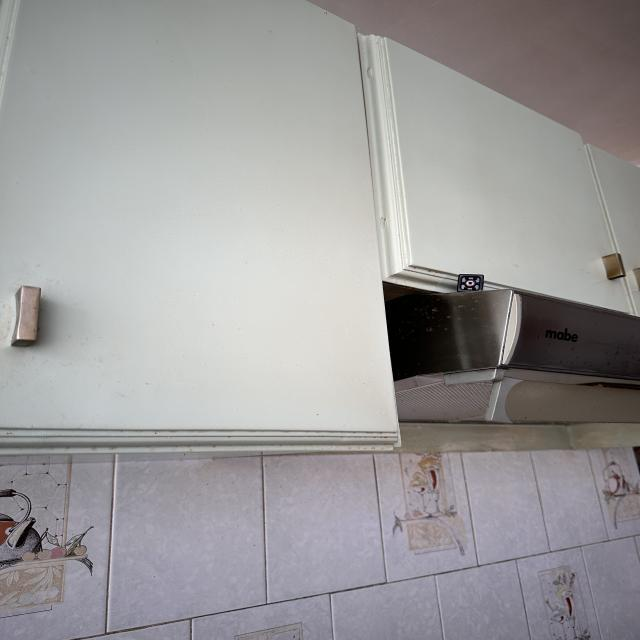hidden camera: (464, 280, 476, 287)
